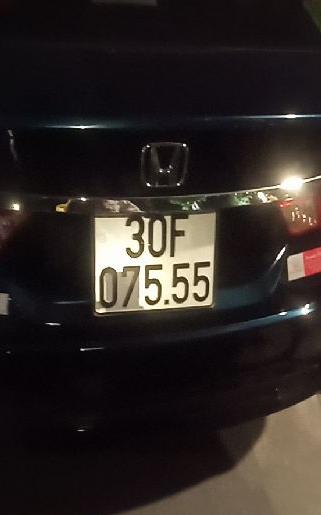Plate-iWeP: (94, 208, 218, 311)
